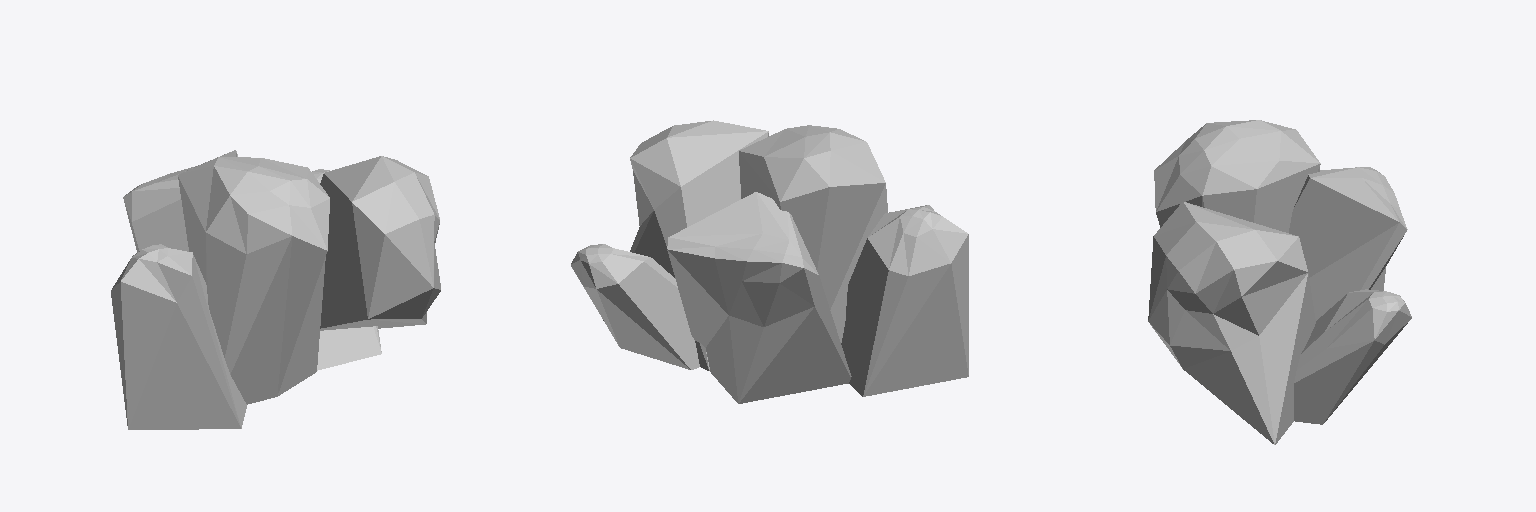
File: rockbud.obj
3 renders of one model, left to right at view 1: azimuth 30°, elevation 25°; view 2: azimuth 150°, elevation 25°; view 3: azimuth 270°, elevation 25°, orthographic.
Parts seen in each view (by area): view 1: CrystalCrack; view 2: CrystalCrack; view 3: CrystalCrack.
Boxes of the visible parts, x1=… form: CrystalCrack: x1=111, y1=150, x2=440, y2=429; CrystalCrack: x1=571, y1=120, x2=968, y2=403; CrystalCrack: x1=1148, y1=120, x2=1411, y2=444.
Bounding box in the file's own units: 0.3791 × 0.2428 × 0.2588.